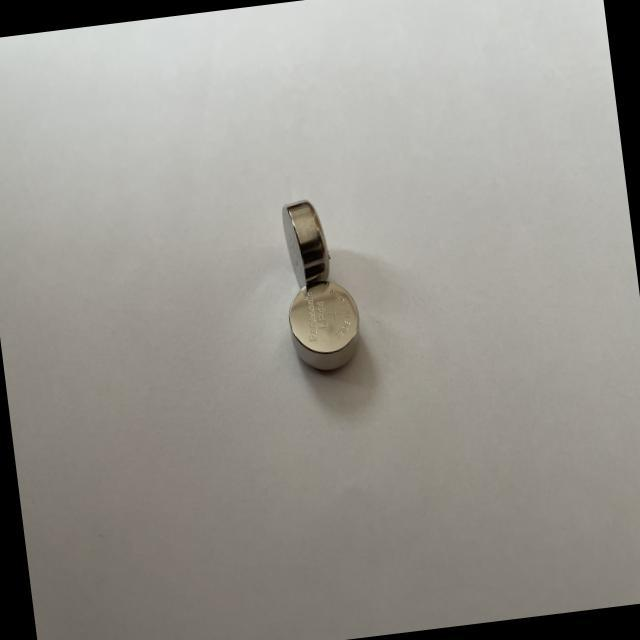COIN: (286, 280, 366, 374), (279, 196, 334, 290)
